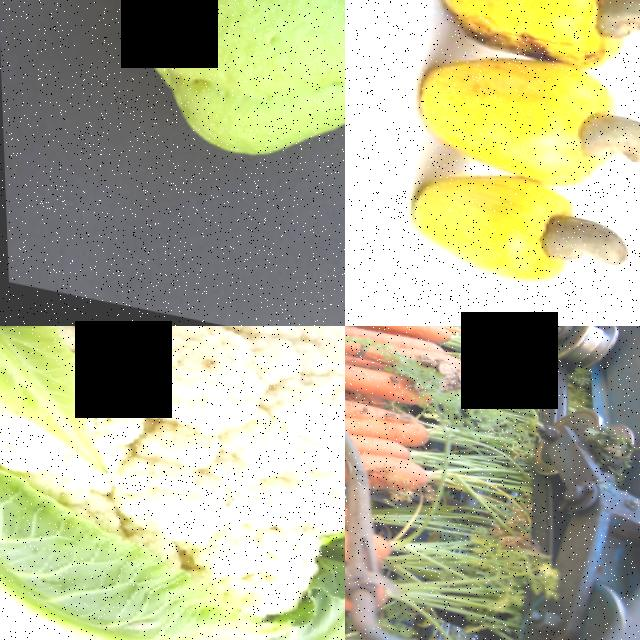carrot: (345, 342, 436, 397), (345, 326, 455, 369), (358, 452, 435, 495), (345, 407, 445, 440), (345, 429, 411, 453)
cashew: (530, 188, 640, 296), (569, 82, 640, 193), (584, 0, 640, 58)
cauliflower: (0, 326, 345, 640)
chayote: (63, 0, 345, 297)
